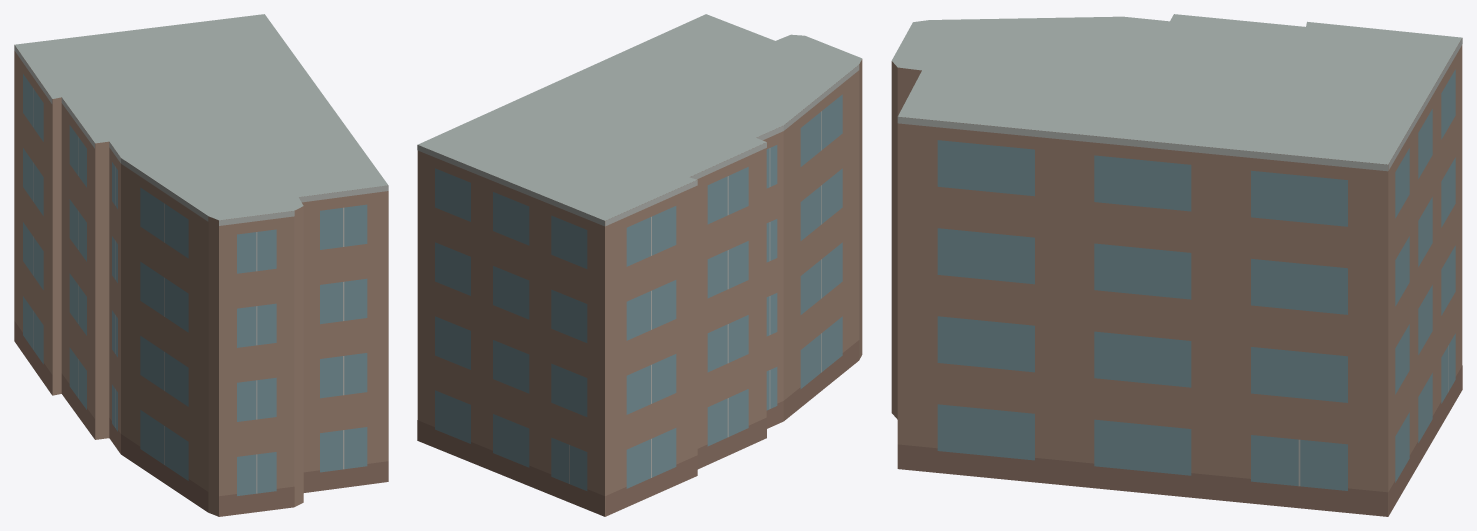
File: survey-upis-33028304.glb
3 renders of one model, left to right at view 1: azimuth 30°, elevation 25°; view 2: azimuth 150°, elevation 25°; view 3: azimuth 270°, elevation 25°, orthographic. The views are drawn at different scales.
Visible parts, largest first — view 1: survey-upis-33028304.tmp; view 2: survey-upis-33028304.tmp; view 3: survey-upis-33028304.tmp.
Part boxes in pixels (box(x1,y1,x2,y2)): survey-upis-33028304.tmp: box(14, 14, 388, 516); survey-upis-33028304.tmp: box(417, 14, 862, 516); survey-upis-33028304.tmp: box(891, 14, 1462, 516).
Bounding box in the file's own units: 11.7 × 12.75 × 18.73.
